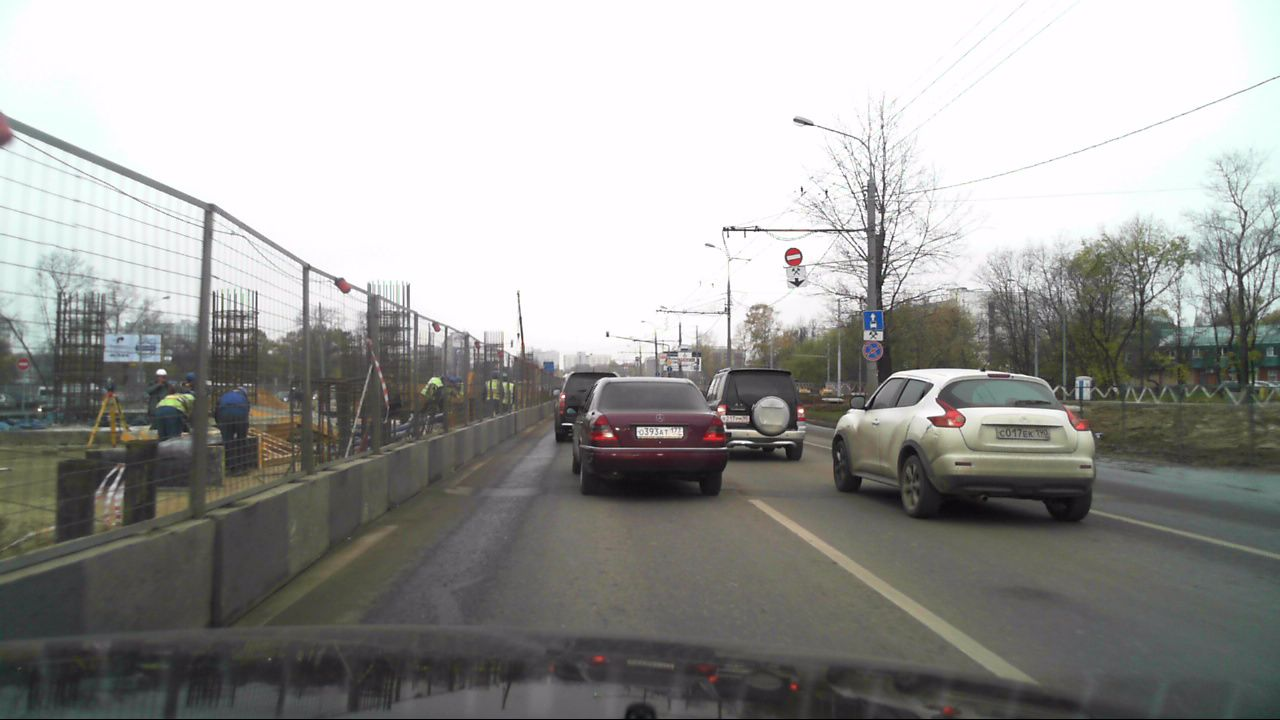No Parking: (862, 342, 883, 361)
